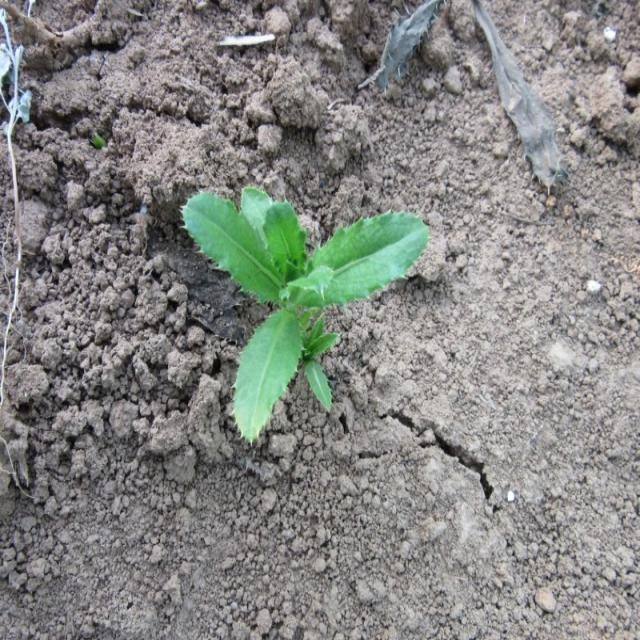cs: (181, 179, 428, 444)
